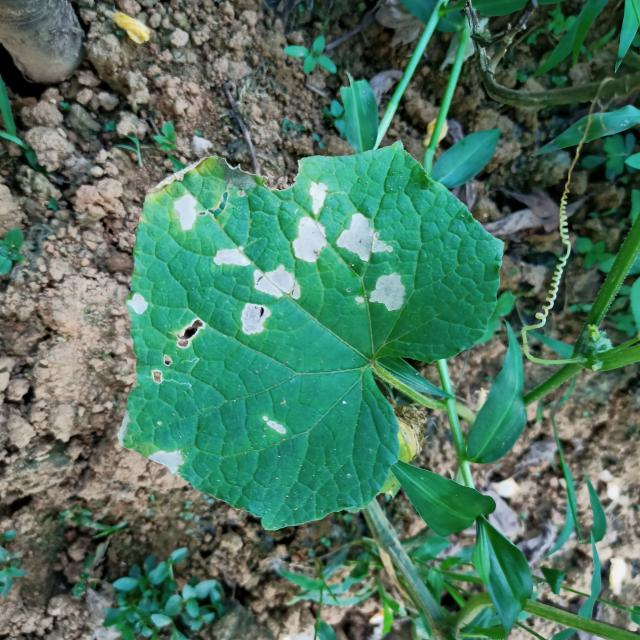disease_cucumber: (238, 264, 301, 336), (151, 318, 205, 384), (291, 181, 330, 265), (334, 212, 394, 264), (354, 272, 407, 313), (173, 192, 197, 232), (149, 448, 184, 475), (213, 245, 251, 269), (262, 413, 286, 438), (128, 292, 149, 316)
